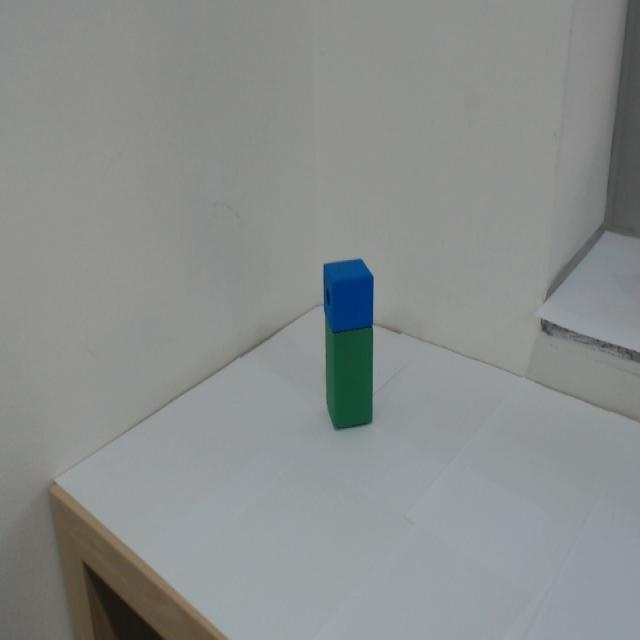cube: (296, 255, 399, 321)
